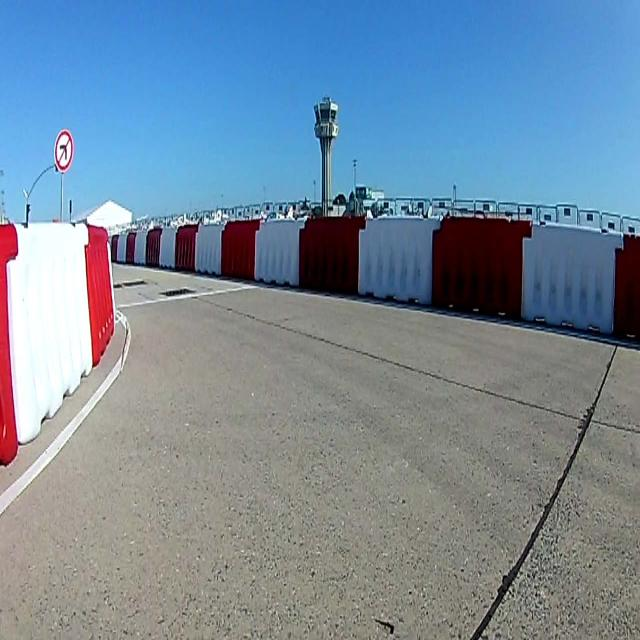soladonulmez: (55, 130, 73, 170)
